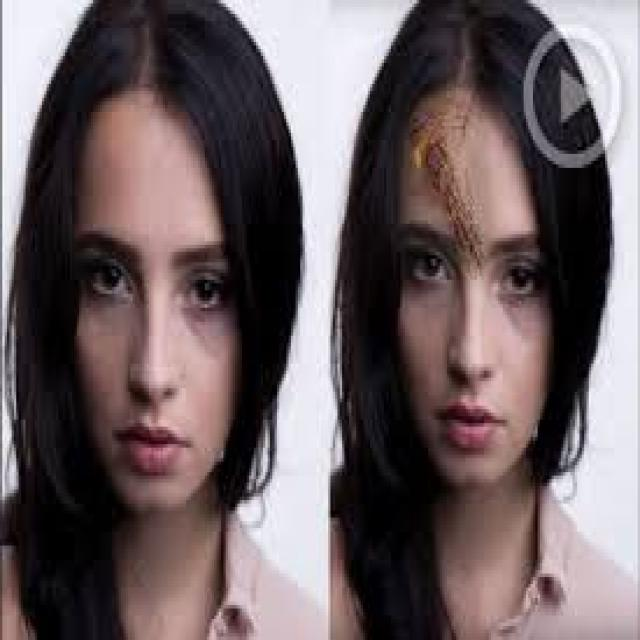burn: (407, 86, 487, 281)
